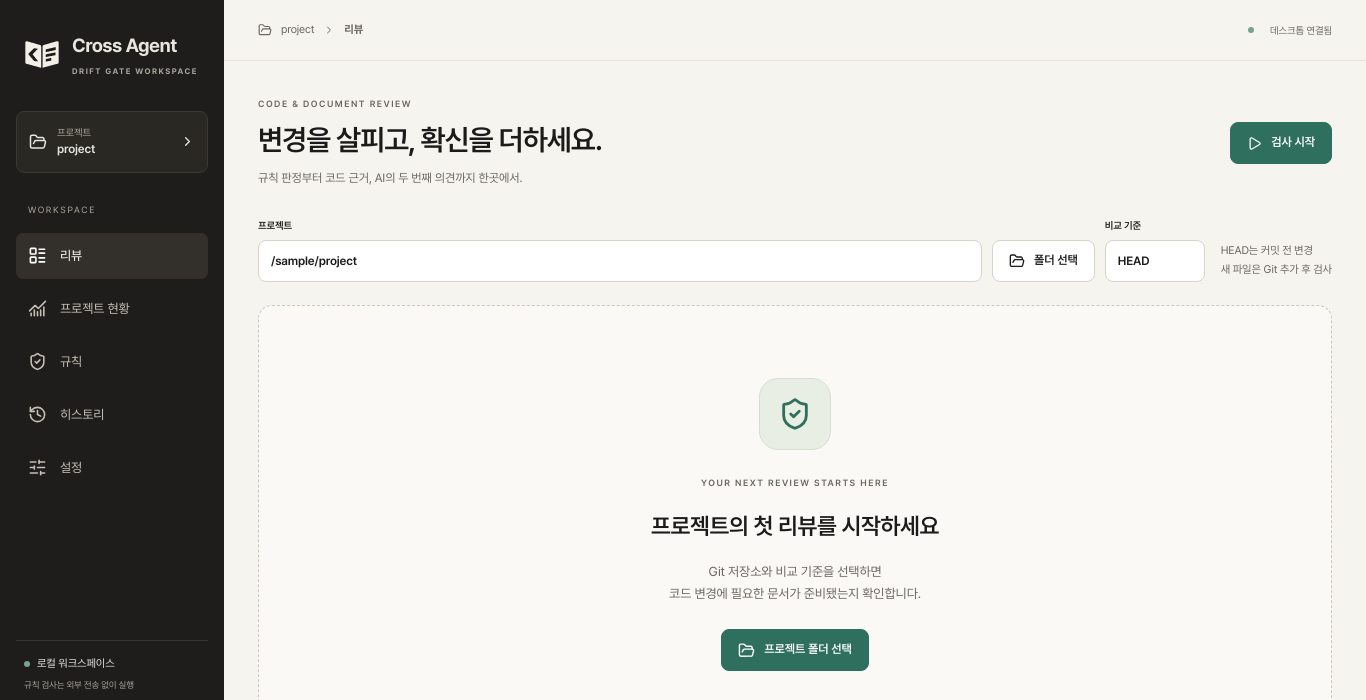
Test: keeps project progress unconfirmed until the user saves reviewed evidence
Click the button "프로젝트 현황": (112, 309) [16,286,208,332]
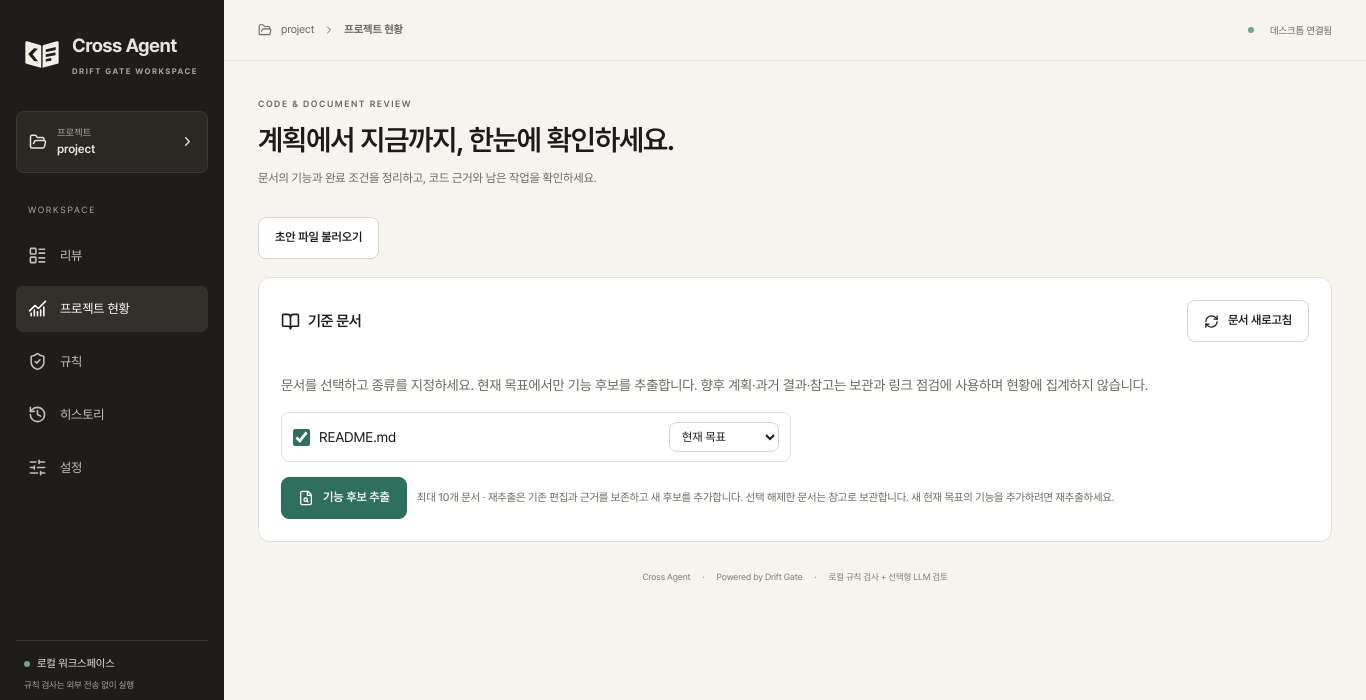
Click the button "기능 후보 추출": (344, 498) [281,477,407,519]
(page scrolled)
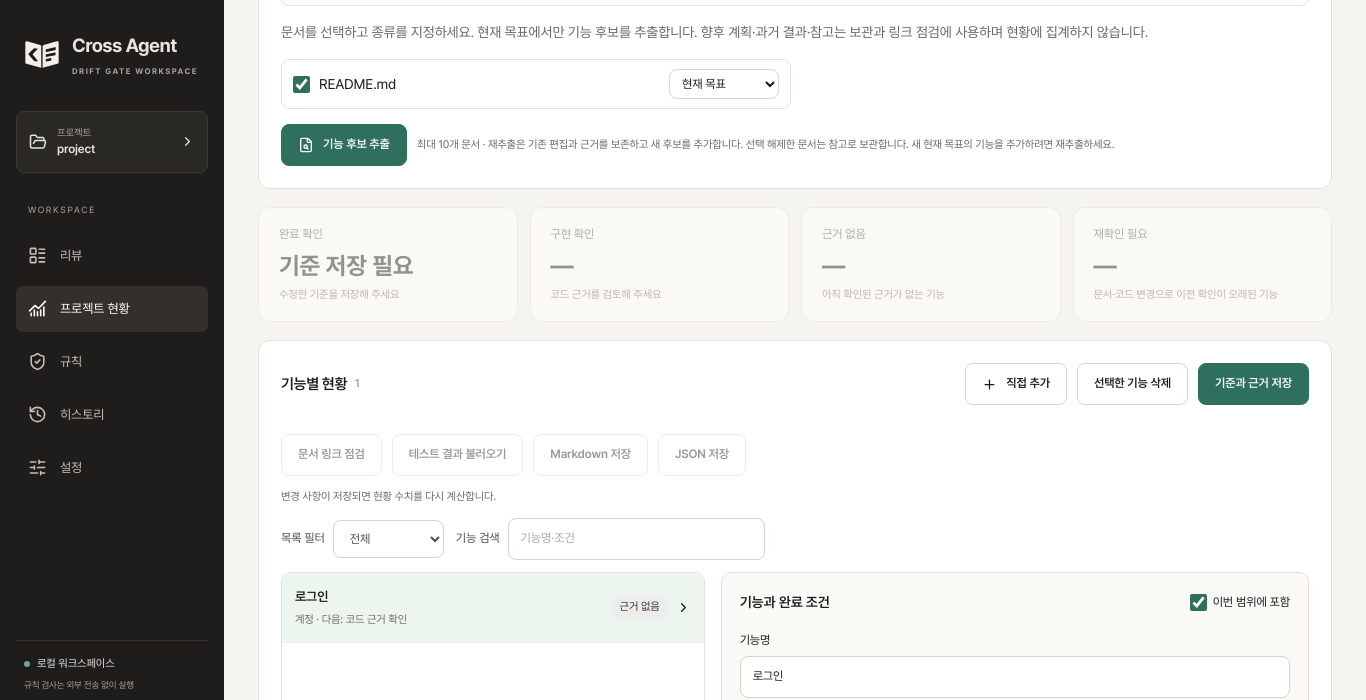
Check: the text "기준 저장 필요" is shown, box [279,251,413,280]
Check: the 1st text "근거 없음" is shown, box [822,227,866,241]
Click the button "기준과 근거 저장": (1254, 384) [1198,363,1309,405]
(page scrolled)
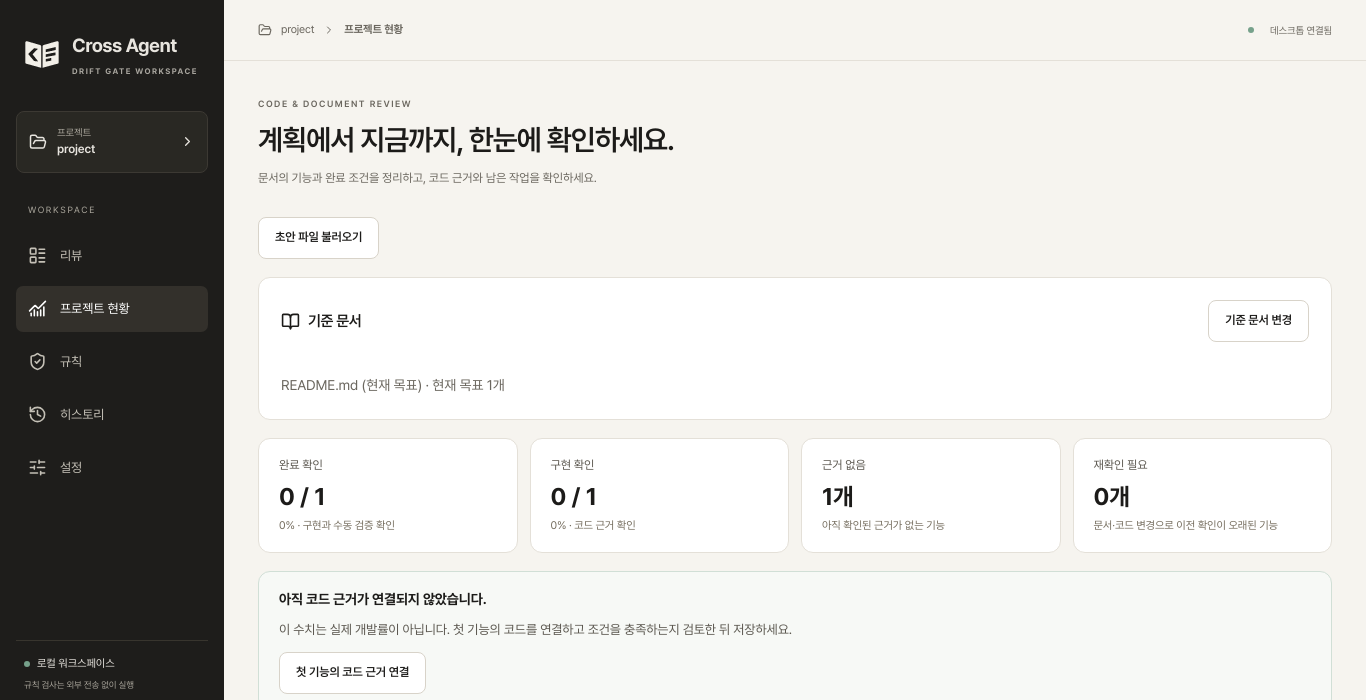
Check: the text "0 / 1" is shown 2 times, box [279,482,325,511]; [550,482,597,511]
Check: the button "기준 문서 변경" is shown, box [1208,300,1309,342]
